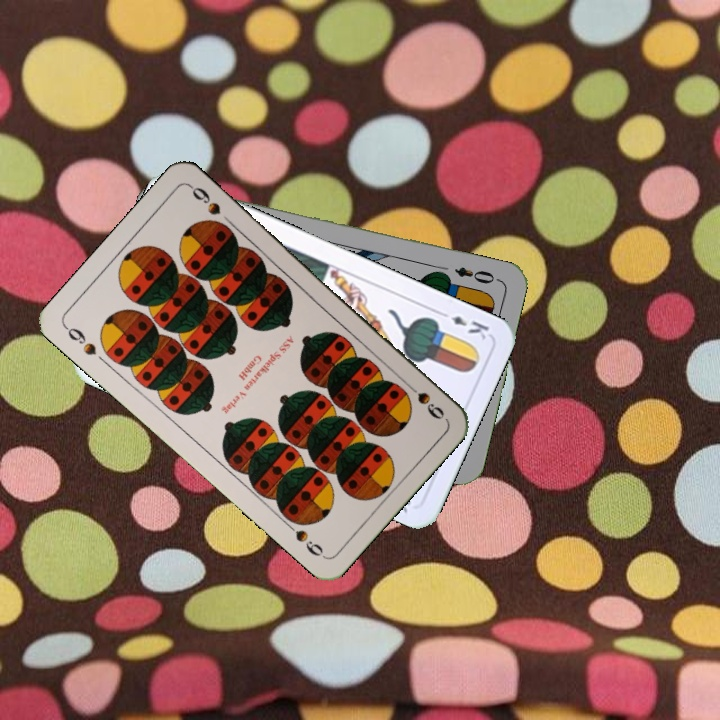EK: (435, 307, 492, 342)
EO: (450, 262, 502, 287)
S9: (399, 377, 448, 423), (60, 322, 100, 358)
